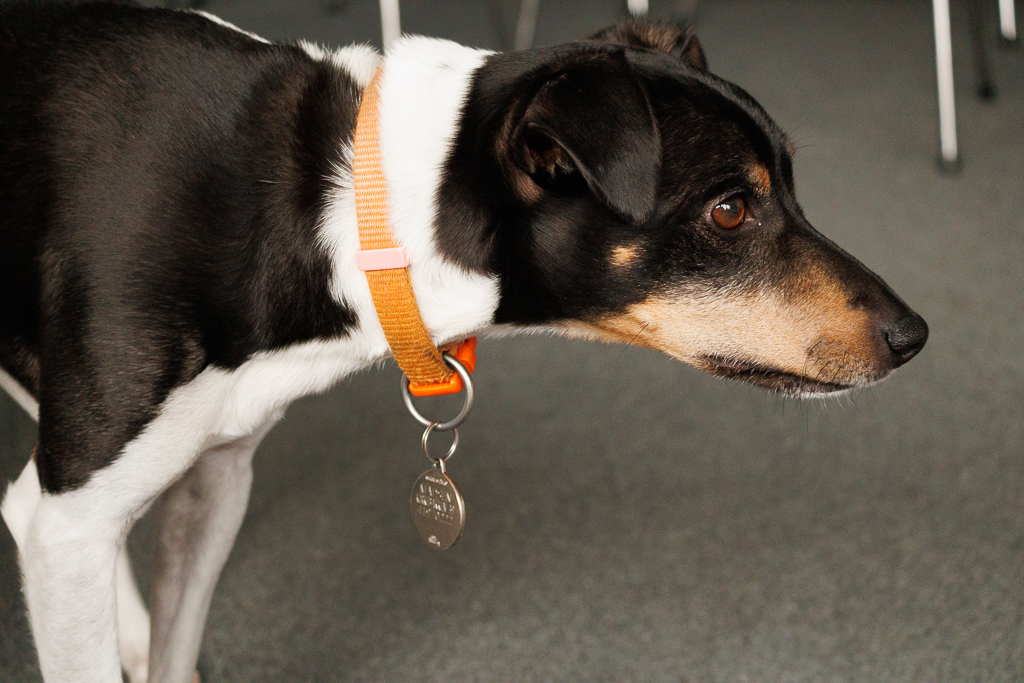Dog: (0, 0, 935, 683)
